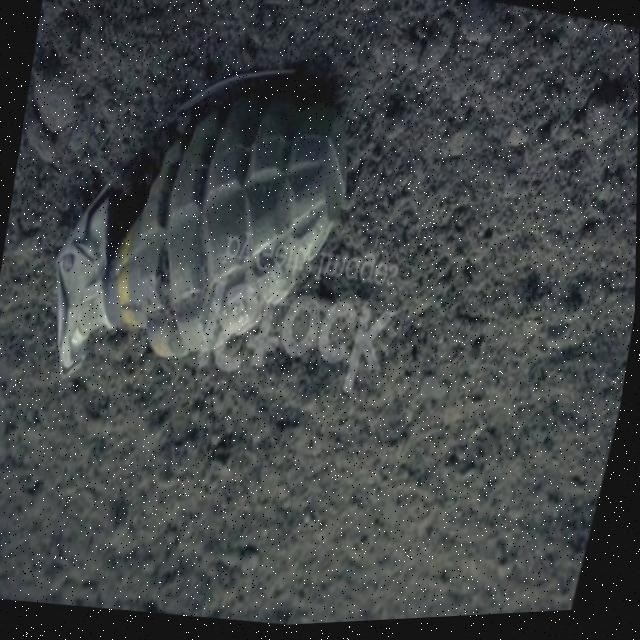grenade: (22, 13, 380, 451)
